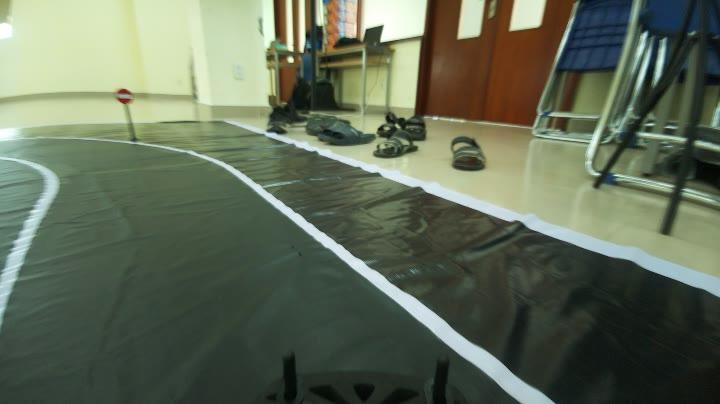no_entry: (112, 84, 140, 108)
